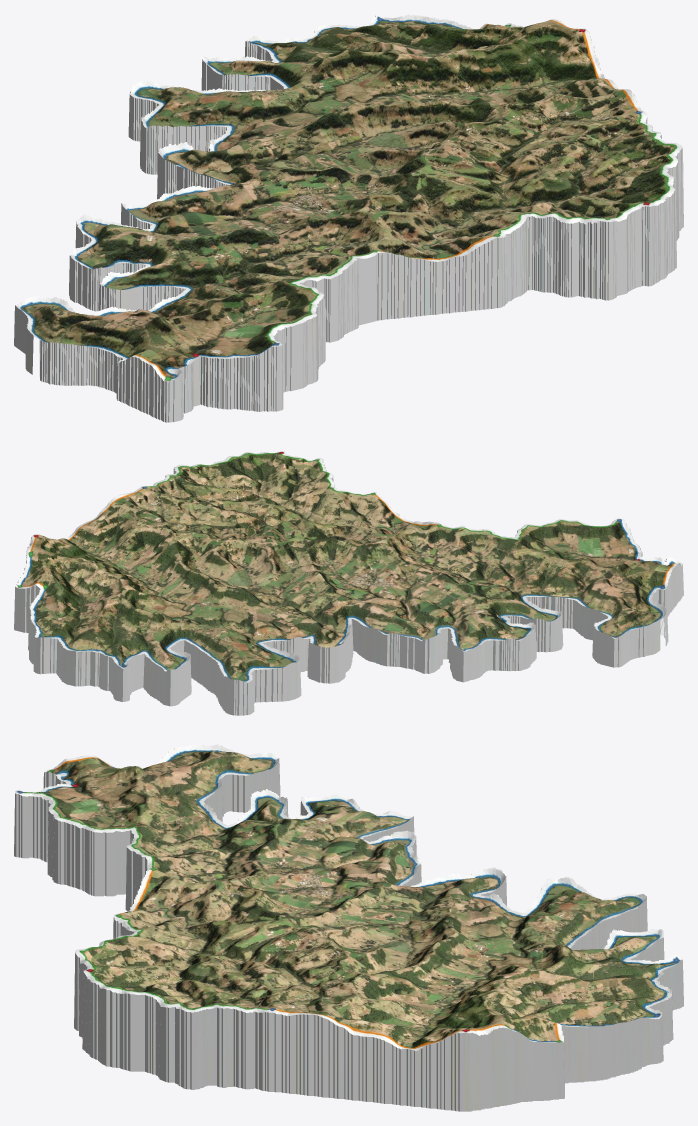
3 views of the same model, one above another, from view 1: azimuth 30°, elevation 25°; view 2: azimuth 150°, elevation 25°; view 3: azimuth 270°, elevation 25° (orthographic). The views are drawn at different scales.
Bounding box in the file's own units: 1 × 0.1151 × 0.8642.
Materials: 1 (1 with a texture image).
